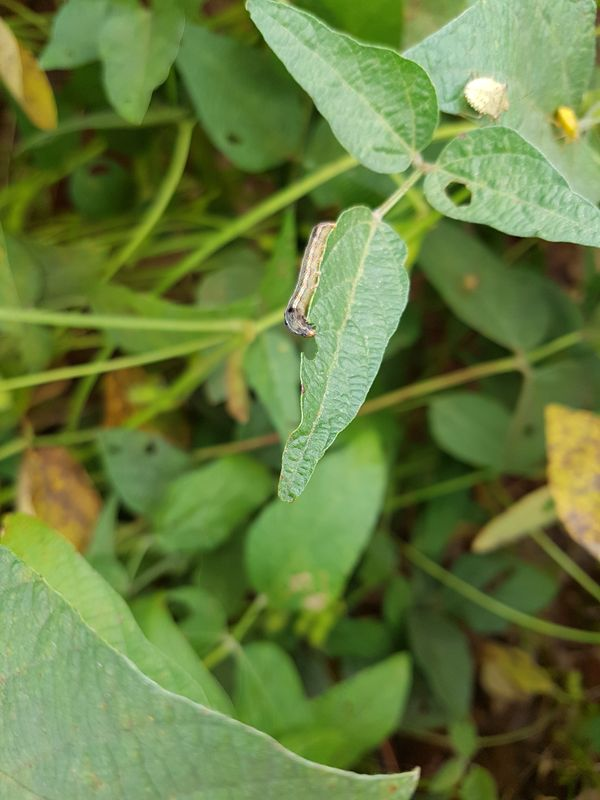Euschistus_heros_ninfa: (446, 58, 522, 134)
Spodoptera_albula: (259, 205, 377, 355)
